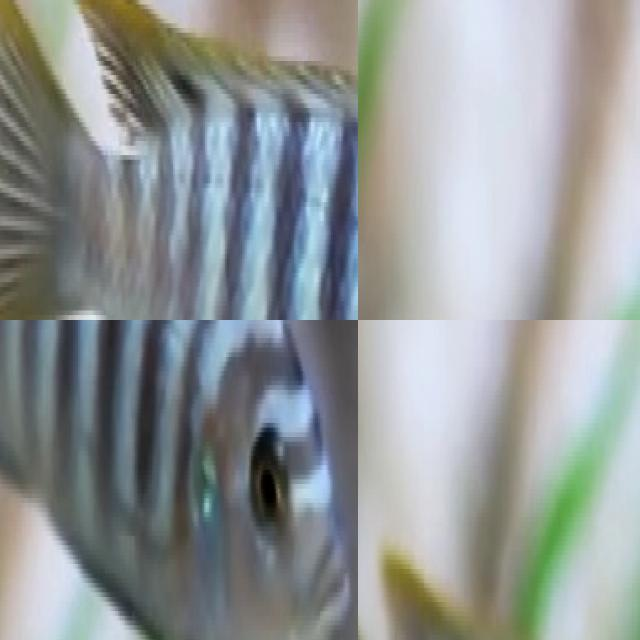fish: (0, 0, 358, 320), (0, 320, 351, 640)
